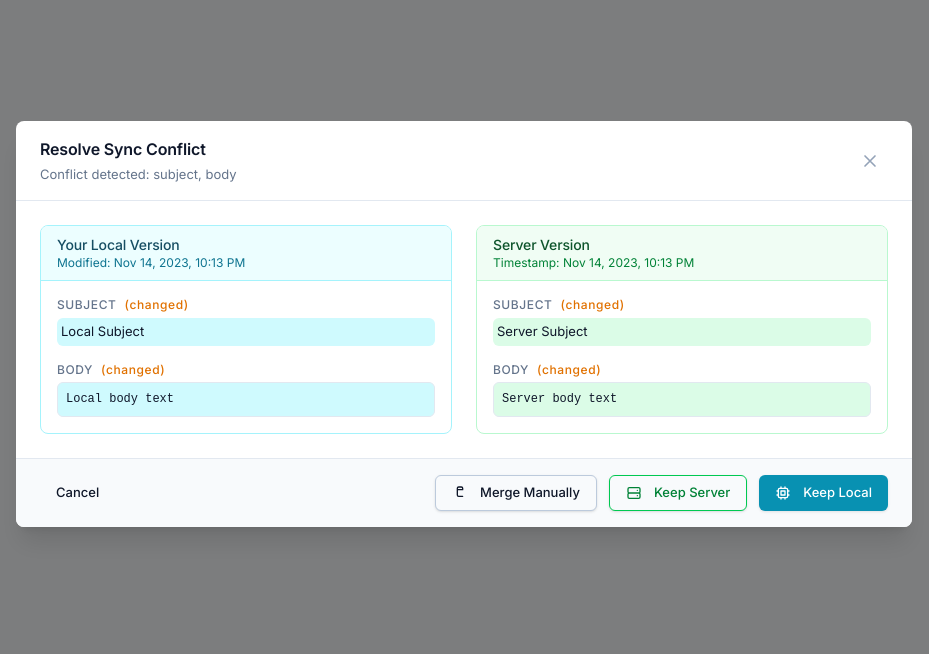
Scenario: ConflictResolutionModal › Merge editor › should show merge editor when Merge Manually is clicked
Click the button "Merge Manually".
click(516, 493)  # box [435,475,597,511]
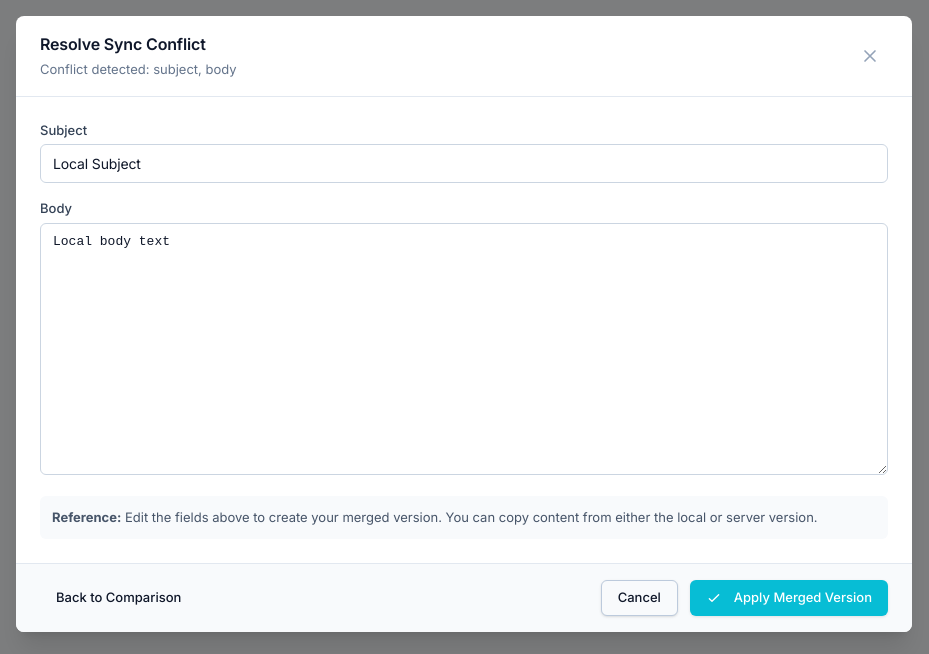
Now the field labelled "Subject" is shown, box [40,144,888,183]
Now the text box labelled "Body" is shown, box [40,222,888,474]
